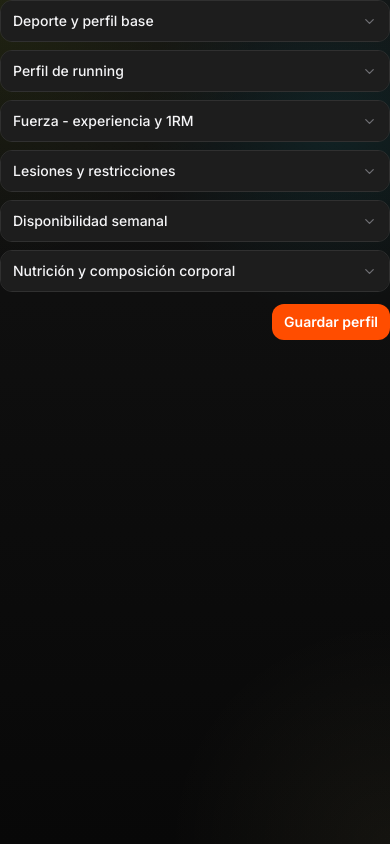
Test: AthleteProfileEditor weekly session target › keeps a saved target when the profile has no available days selected
Click the button "Disponibilidad semanal".
click(90, 220)  # box top-left (1, 201), bottom-right (389, 241)
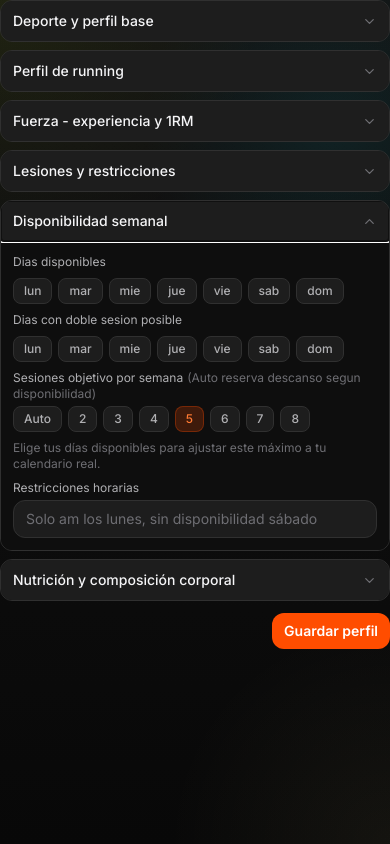
Expected: the button "5" is enabled, top-left (175, 406), bottom-right (204, 432)
Expected: the text "Elige tus días disponibles" is shown, top-left (13, 440), bottom-right (326, 471)
Click the button "Guardar perfil".
click(331, 631)  # box top-left (272, 613), bottom-right (389, 649)
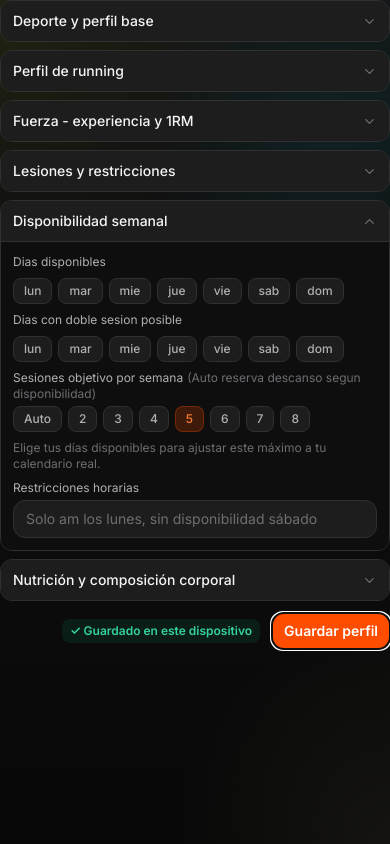
Expected: the text "✓ Guardado en este dispositivo" is shown, top-left (62, 619), bottom-right (260, 643)
